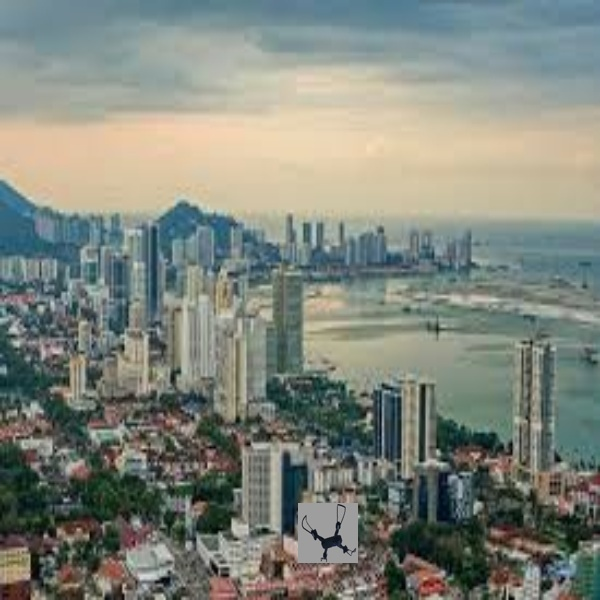drone: (295, 504, 356, 558)
